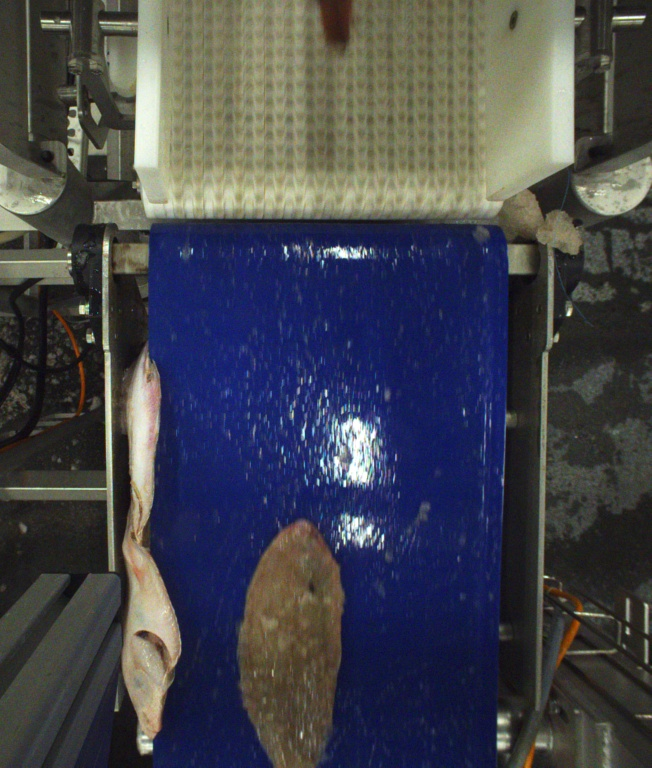SOL: (236, 516, 349, 767)
